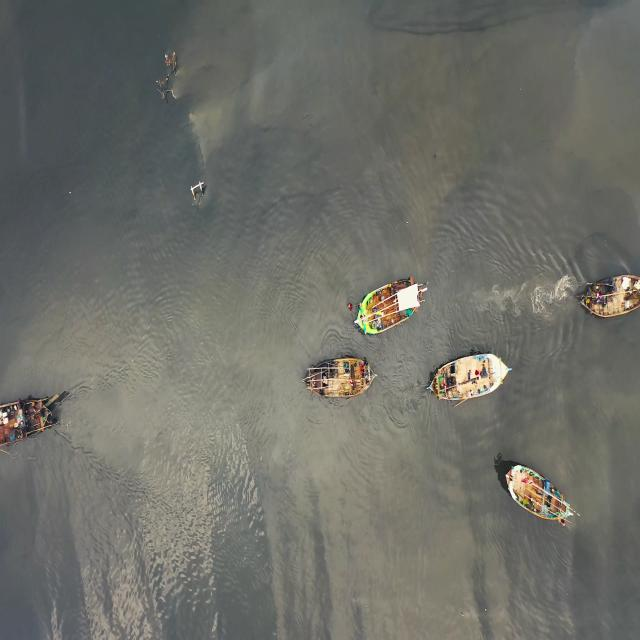ship: (501, 460, 583, 529), (352, 269, 431, 337), (426, 349, 516, 405), (302, 355, 378, 399), (578, 269, 636, 319), (3, 391, 61, 440)
